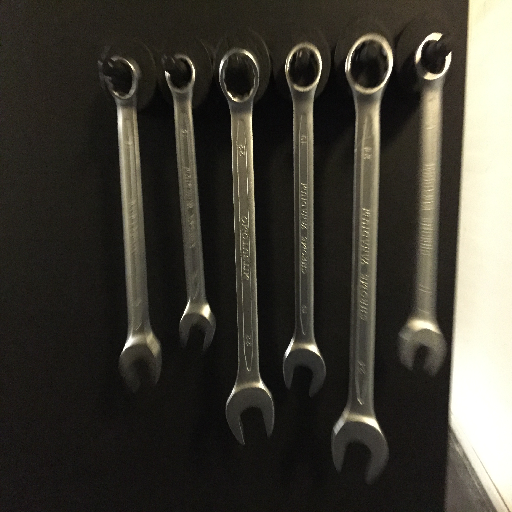bottom: (331, 411, 390, 486), (224, 383, 274, 448), (396, 319, 446, 379), (280, 339, 327, 397), (118, 336, 161, 393), (176, 302, 216, 351)
top: (343, 33, 395, 98), (217, 47, 261, 106), (284, 40, 323, 97), (412, 31, 453, 83), (102, 54, 143, 103), (161, 53, 199, 97)
